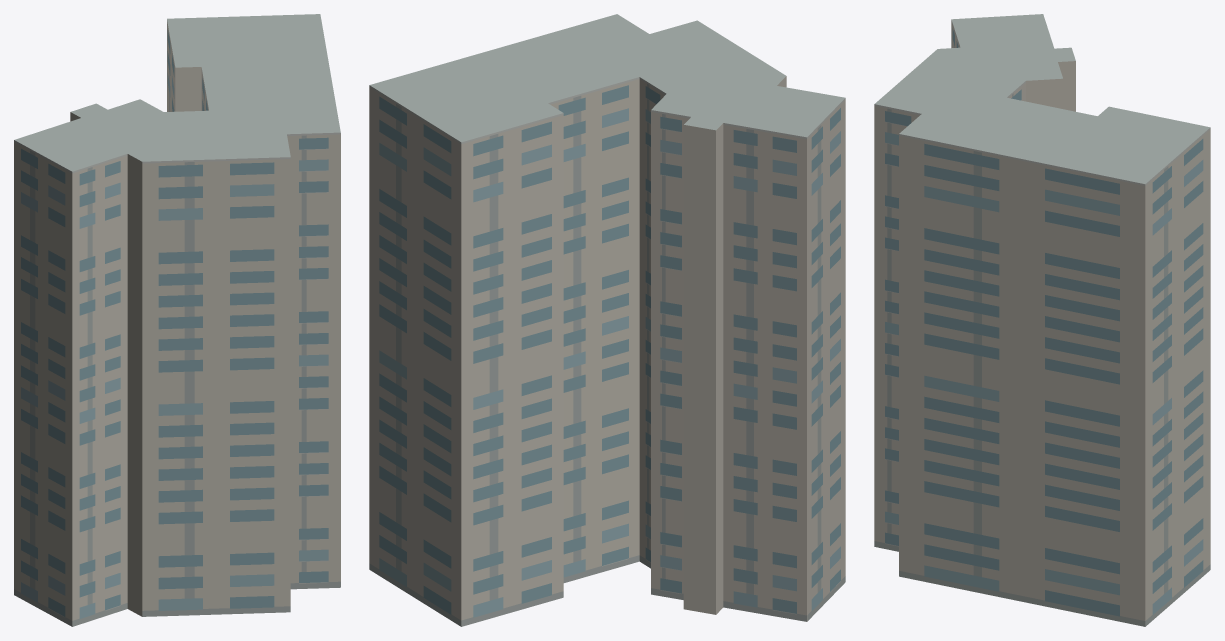
The model's file is residential-f0e911de-af86-4704-9ffc-702e18799b70.glb.
The picture shows the model from 3 angles, left to right: view 1: azimuth 30°, elevation 25°; view 2: azimuth 150°, elevation 25°; view 3: azimuth 270°, elevation 25°; orthographic projection. The views are drawn at different scales.
Visible parts, largest first — view 1: residential-f0e911de-af86-4704-9ffc-702e18799b70.tmp; view 2: residential-f0e911de-af86-4704-9ffc-702e18799b70.tmp; view 3: residential-f0e911de-af86-4704-9ffc-702e18799b70.tmp.
Boxes of the visible parts, <box> form: residential-f0e911de-af86-4704-9ffc-702e18799b70.tmp: <box>14,14,340,626</box>; residential-f0e911de-af86-4704-9ffc-702e18799b70.tmp: <box>369,14,845,626</box>; residential-f0e911de-af86-4704-9ffc-702e18799b70.tmp: <box>874,14,1210,626</box>.
Size of the model in its own units: 50.32 by 61 by 41.99.
